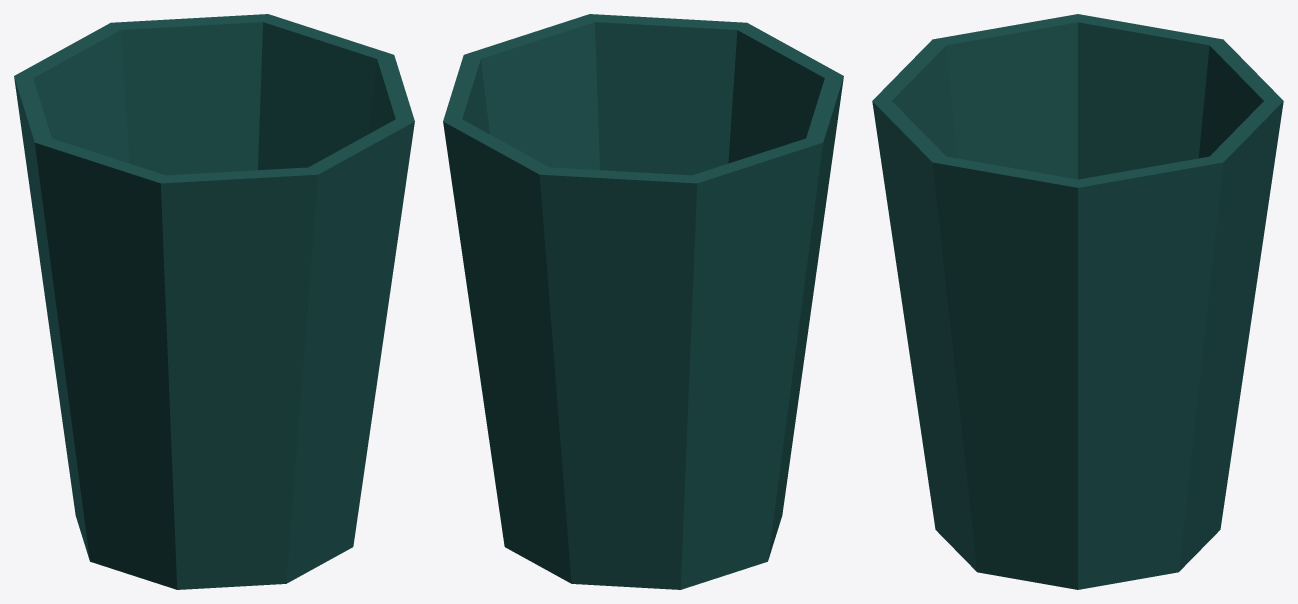
File: Green_Cup.fbx
3 renders of one model, left to right at view 1: azimuth 30°, elevation 25°; view 2: azimuth 150°, elevation 25°; view 3: azimuth 270°, elevation 25°, orthographic.
Parts seen in each view (by area): view 1: Green_Cup; view 2: Green_Cup; view 3: Green_Cup.
Part boxes in pixels (bbox=[...]): Green_Cup: bbox=[14, 14, 414, 589]; Green_Cup: bbox=[443, 14, 843, 589]; Green_Cup: bbox=[872, 14, 1283, 589].
Bounding box in the file's own units: 47.63 × 54.77 × 47.63.
